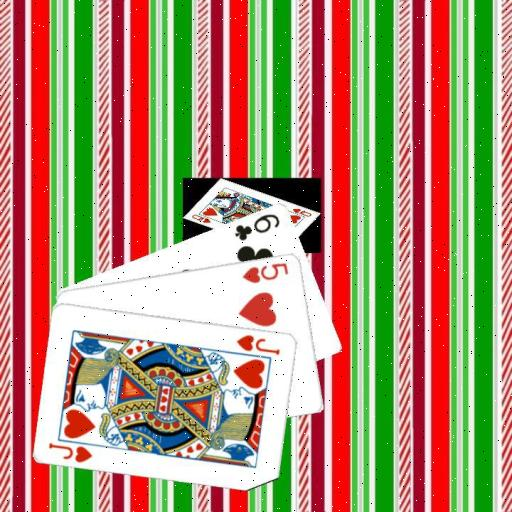5H: (240, 259, 290, 285)
6C: (232, 210, 282, 242)
JH: (234, 331, 282, 357), (46, 440, 94, 464)
